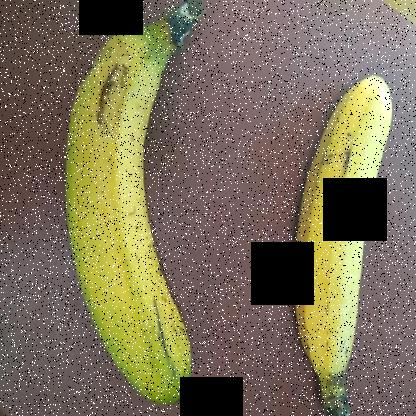freshripe: (275, 56, 398, 415)
ripe: (31, 8, 202, 415)
